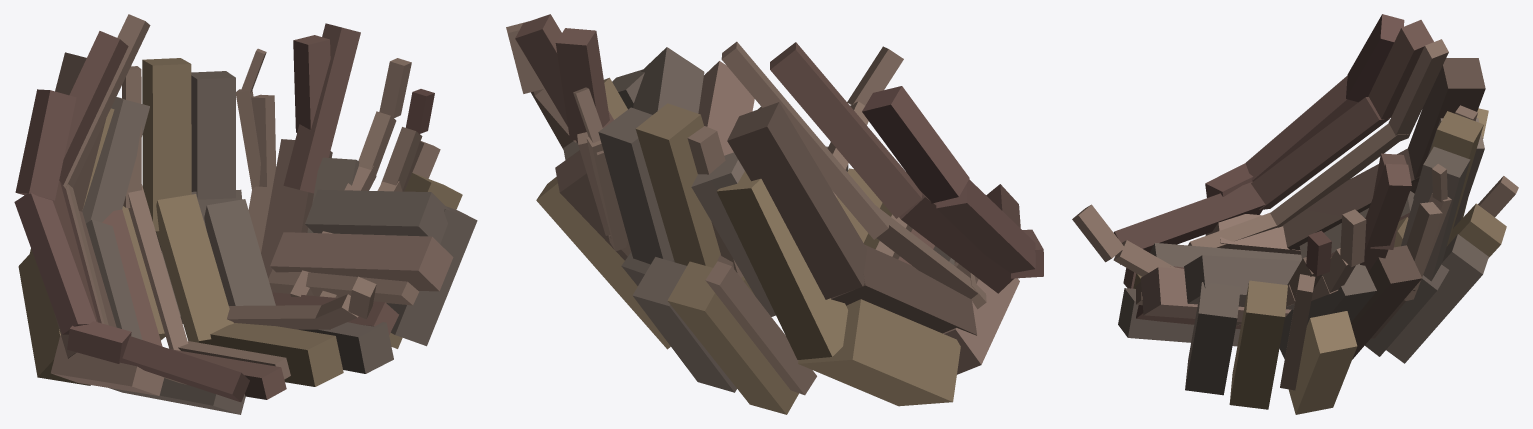
Rendered from BIRD NEST.glb.
The picture shows the model from 3 angles, left to right: view 1: azimuth 30°, elevation 25°; view 2: azimuth 150°, elevation 25°; view 3: azimuth 270°, elevation 25°; orthographic projection. The views are drawn at different scales.
Parts seen in each view (by area): view 1: Bird Nest; view 2: Bird Nest; view 3: Bird Nest.
Boxes of the visible parts, box(x1,y1,x2,y2) form: Bird Nest: box(14, 14, 477, 414); Bird Nest: box(506, 14, 1043, 414); Bird Nest: box(1072, 14, 1518, 414).
Bounding box in the file's own units: 143 × 110 × 140.
